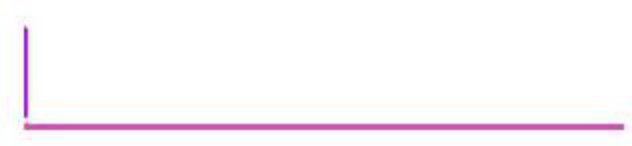EditText: (1, 1, 631, 145)
